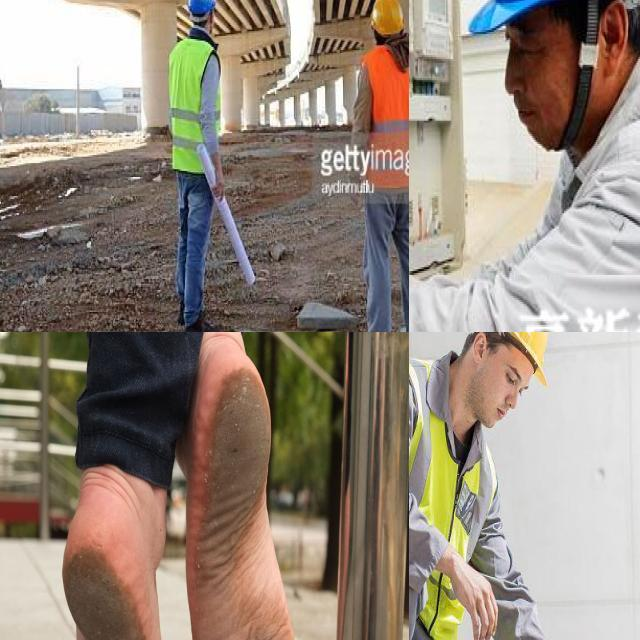Barefoots: (185, 337, 303, 640), (62, 501, 194, 640)
No_Ear-Protection: (594, 0, 640, 75), (471, 332, 488, 362)
No_Glasses: (500, 22, 553, 59), (499, 354, 533, 405)
face_nomask: (506, 50, 578, 150), (471, 346, 531, 433)
hand_noglove: (451, 538, 502, 640), (211, 171, 228, 204)
head_helmet: (460, 332, 555, 375), (370, 0, 408, 37), (187, 0, 217, 19)
person: (409, 332, 576, 640), (167, 0, 229, 332), (352, 0, 409, 332)
shoes: (179, 313, 218, 332)
vest: (409, 361, 496, 640), (169, 36, 223, 172), (362, 48, 409, 202)
